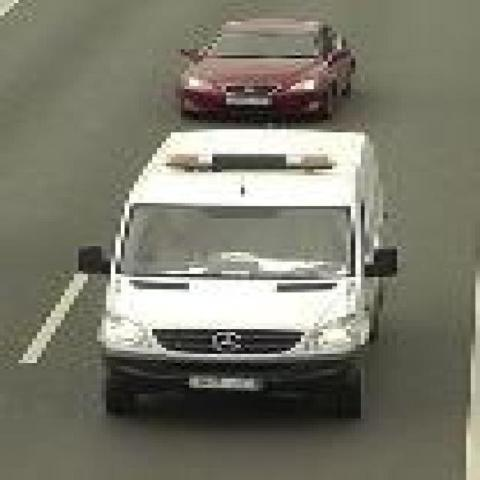car: (180, 20, 356, 122)
van: (102, 129, 383, 416)
